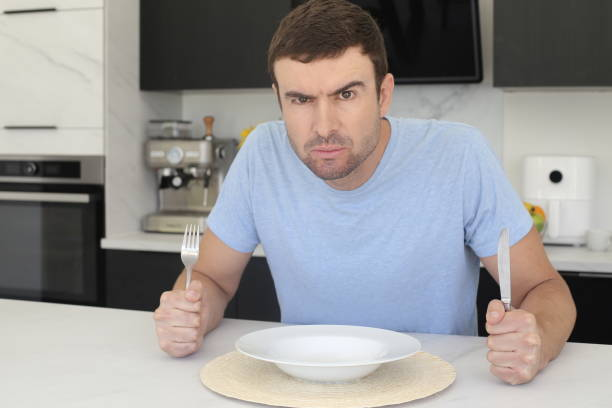knife: (498, 228, 510, 312)
